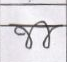i_matra: (36, 21, 50, 47)
